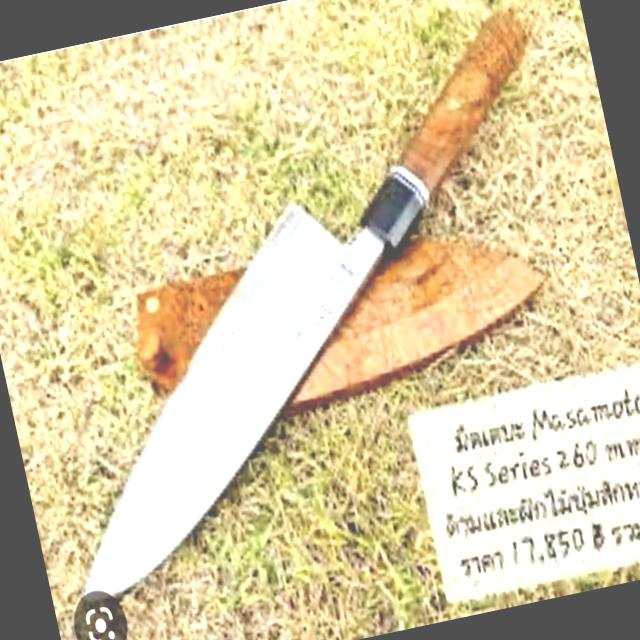knife: (71, 0, 572, 613)
